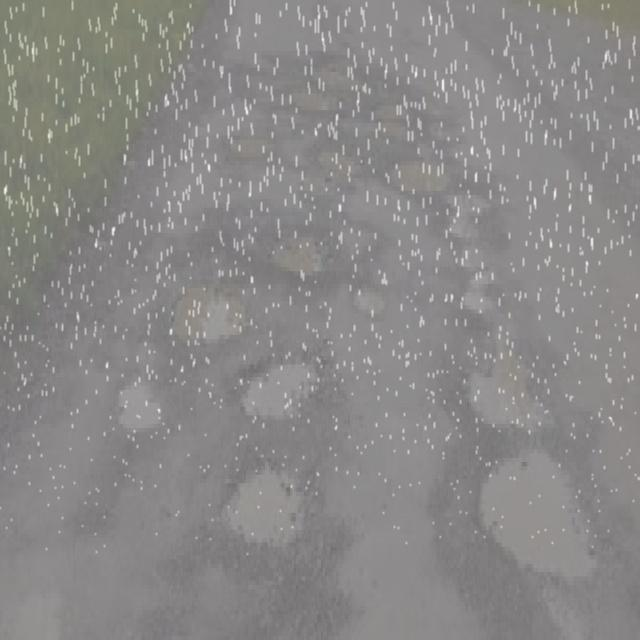Pothole: (461, 437, 613, 583), (457, 268, 568, 439), (210, 444, 325, 567), (226, 346, 334, 427), (158, 274, 257, 348), (104, 360, 175, 446), (349, 63, 418, 140), (317, 217, 401, 272), (258, 223, 324, 285), (277, 64, 334, 124), (376, 147, 458, 186), (446, 186, 495, 243), (312, 133, 364, 183), (203, 124, 268, 164), (334, 285, 392, 328)
